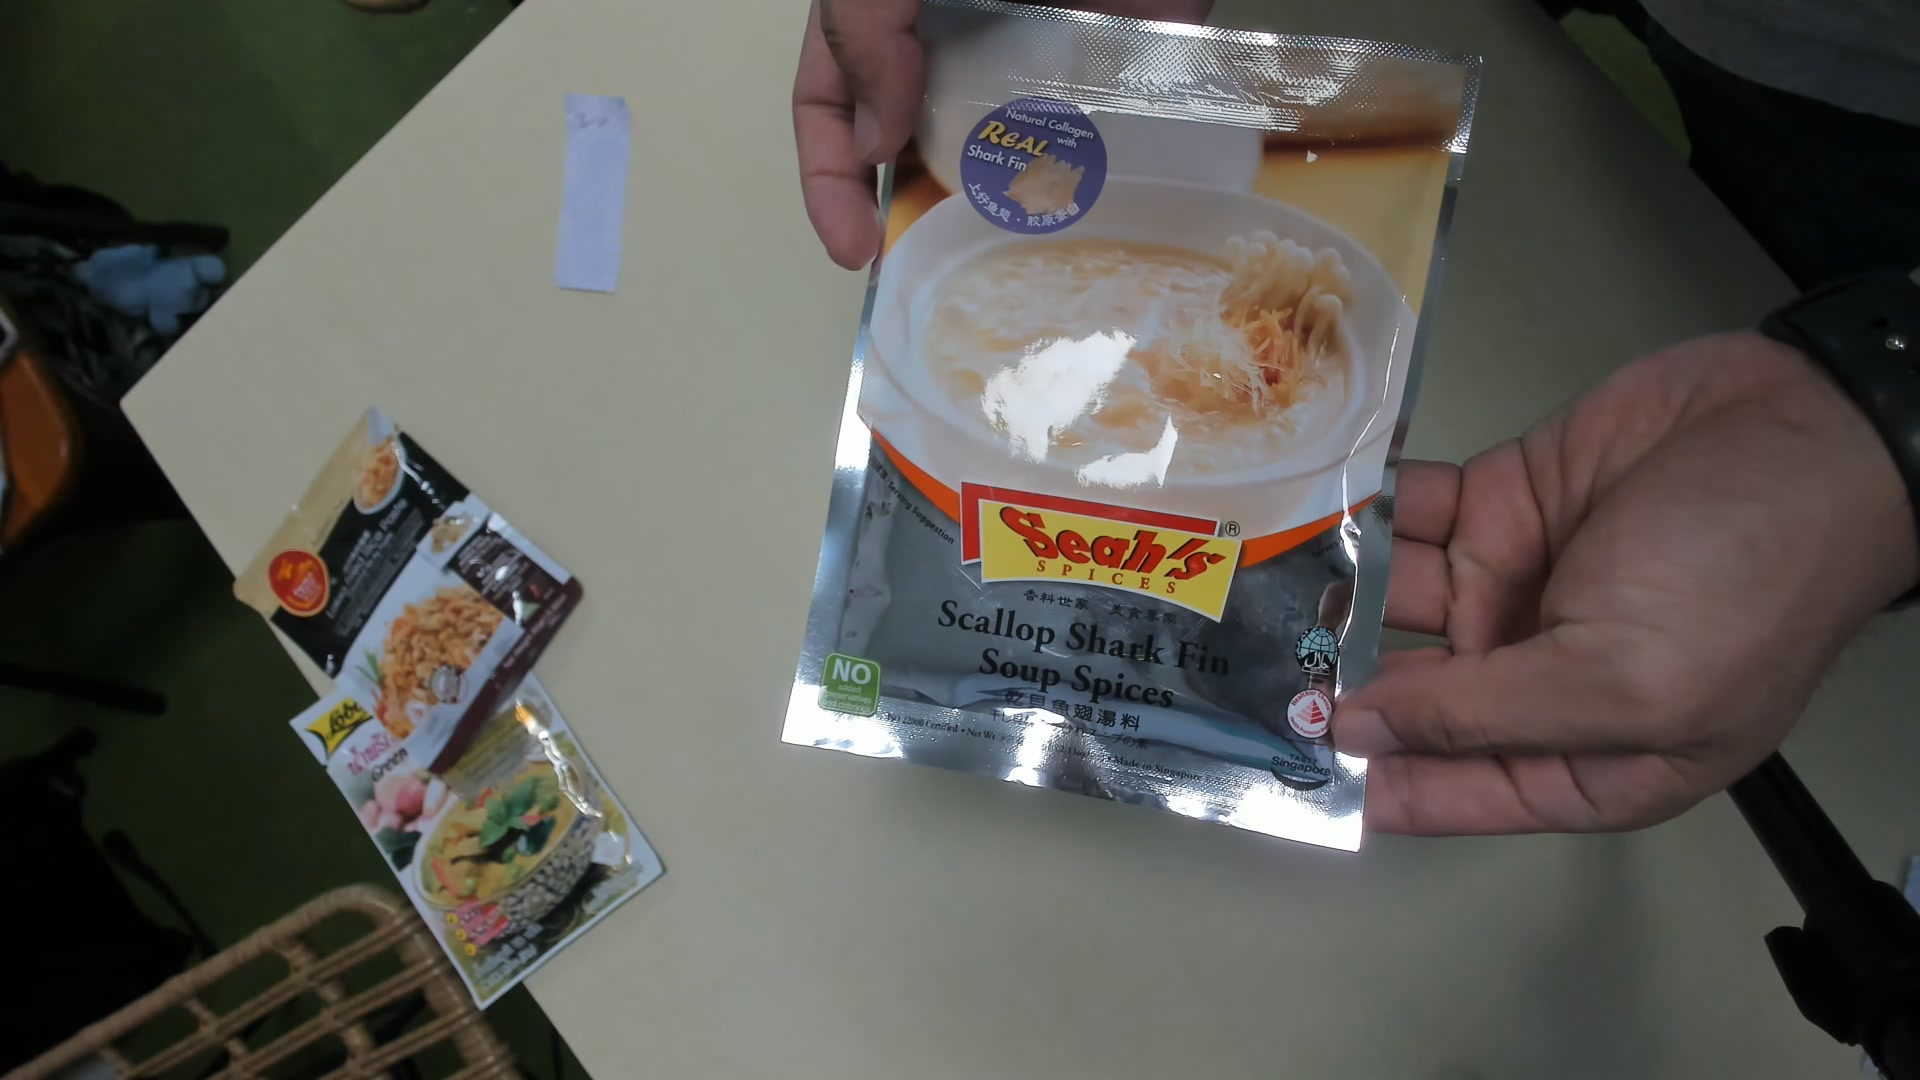OtherSauceDressing_0-99g_Halal_NonHealthy: (786, 12, 1472, 862)
